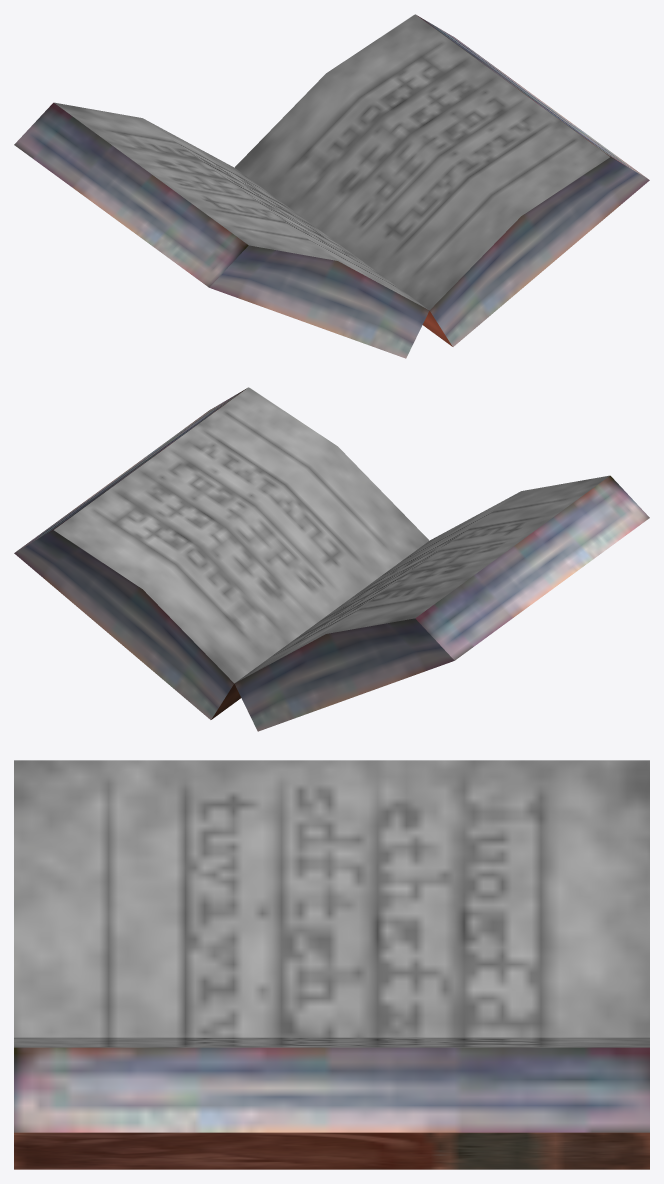
The model's file is F_shu005.fbx.
3 renders of one model, top to bottom at view 1: azimuth 30°, elevation 25°; view 2: azimuth 150°, elevation 25°; view 3: azimuth 270°, elevation 25°, orthographic. The views are drawn at different scales.
Visible parts, largest first — view 1: F_shu005; view 2: F_shu005; view 3: F_shu005.
Boxes of the visible parts, left/top/right/bottom form: F_shu005: left=14, top=14, right=649, bottom=358; F_shu005: left=14, top=387, right=649, bottom=731; F_shu005: left=14, top=760, right=649, bottom=1169.
Size of the model in its own units: 65.08 by 21.41 by 49.93.
